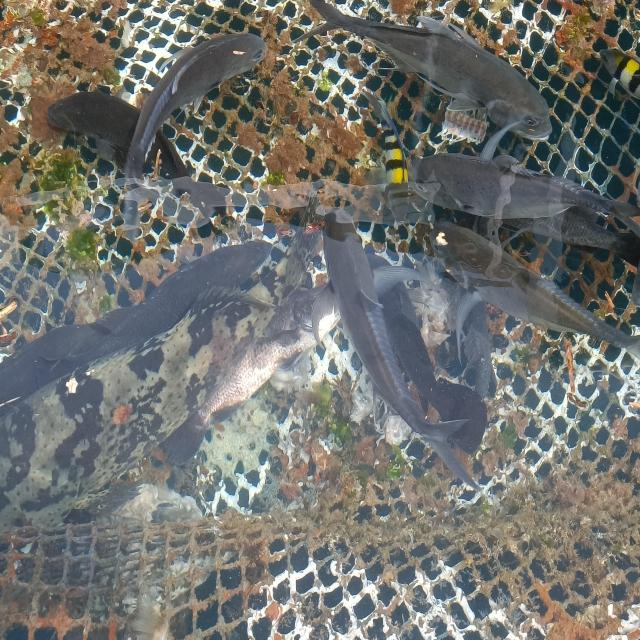ikan: (307, 208, 487, 494), (0, 237, 278, 409), (46, 30, 268, 239), (291, 0, 554, 160), (359, 90, 639, 240), (427, 218, 639, 363)
